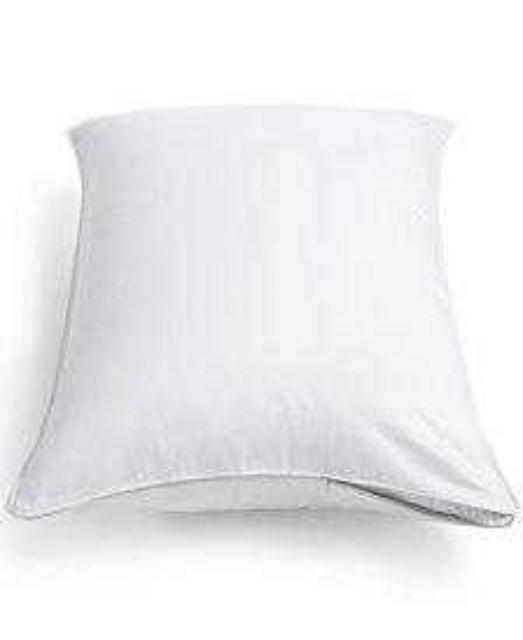pillow: (0, 100, 520, 528)
